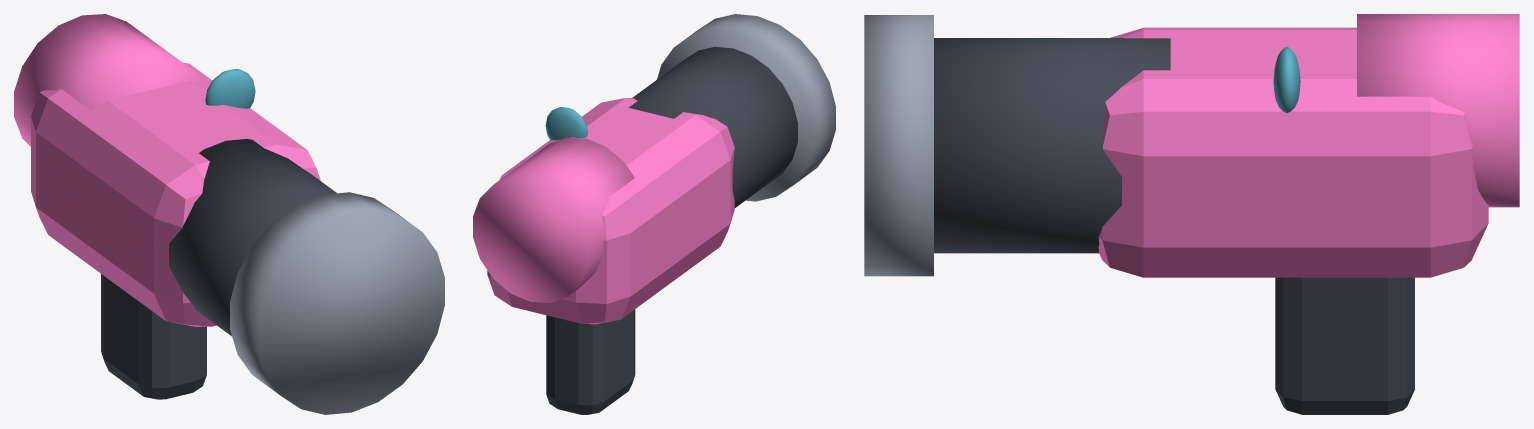
The model's file is popper.glb.
3 renders of one model, left to right at view 1: azimuth 30°, elevation 25°; view 2: azimuth 150°, elevation 25°; view 3: azimuth 270°, elevation 25°, orthographic. The views are drawn at different scales.
Parts seen in each view (by area): view 1: popper_muzzle, popper_body, popper_barrel, popper_chamber, popper_grip, popper_gauge; view 2: popper_body, popper_chamber, popper_barrel, popper_muzzle, popper_grip, popper_gauge; view 3: popper_body, popper_barrel, popper_chamber, popper_grip, popper_muzzle, popper_gauge.
Boxes of the visible parts, x1=… form: popper_muzzle: x1=230, y1=192, x2=444, y2=414; popper_body: x1=31, y1=62, x2=320, y2=326; popper_barrel: x1=169, y1=138, x2=336, y2=336; popper_chamber: x1=14, y1=14, x2=205, y2=146; popper_grip: x1=101, y1=274, x2=206, y2=399; popper_gauge: x1=205, y1=69, x2=255, y2=108; popper_body: x1=487, y1=98, x2=734, y2=324; popper_chamber: x1=473, y1=137, x2=634, y2=302; popper_barrel: x1=629, y1=46, x2=797, y2=207; popper_muzzle: x1=657, y1=14, x2=835, y2=201; popper_grip: x1=546, y1=309, x2=635, y2=414; popper_gauge: x1=545, y1=107, x2=587, y2=140; popper_body: x1=1098, y1=27, x2=1488, y2=277; popper_barrel: x1=934, y1=38, x2=1170, y2=253; popper_chamber: x1=1357, y1=14, x2=1519, y2=207; popper_grip: x1=1275, y1=277, x2=1414, y2=414; popper_muzzle: x1=864, y1=15, x2=933, y2=276; popper_gauge: x1=1273, y1=47, x2=1300, y2=112.
Bounding box in the file's own units: 0.6731 × 1.1 × 1.69.
